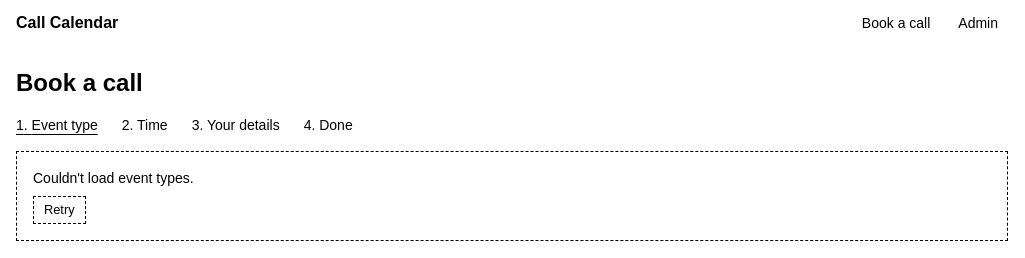
Test case: booking page, step 1: event type › shows an error with Retry when loading fails, and loads again on Retry
Expected: the message shows "Couldn't load event types.", x1=33 y1=170 x2=194 y2=186
Click the button "Retry": (59, 210) x1=33 y1=196 x2=86 y2=224
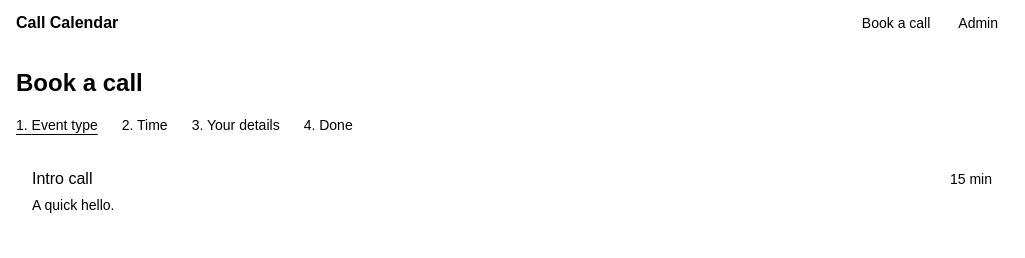
Now the button "Intro call 15 min A quick hello." is shown, box x1=16 y1=151 x2=1008 y2=231
Now the message "Couldn't load event types. Retry" is gone
